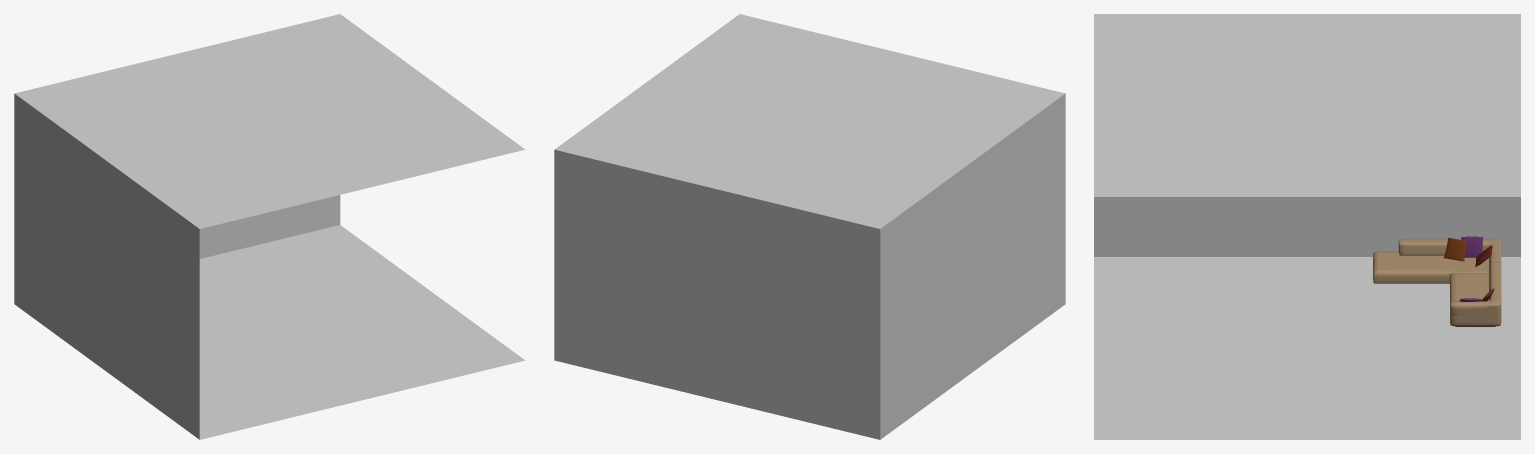
File: sofa1.obj
The picture shows the model from 3 angles, left to right: view 1: azimuth 30°, elevation 25°; view 2: azimuth 150°, elevation 25°; view 3: azimuth 270°, elevation 25°; orthographic projection. The views are drawn at different scales.
Visible parts, largest first — view 1: box; view 2: box; view 3: box, sofa, pillow5.
Part boxes in pixels (x1,y1,x2,y2): box: (14,14,525,439); box: (554,14,1065,439); box: (1094,14,1520,439); sofa: (1373,239,1501,326); pillow5: (1443,238,1468,261).
Bounding box in the file's own units: 16.9 × 10.46 × 16.66.
